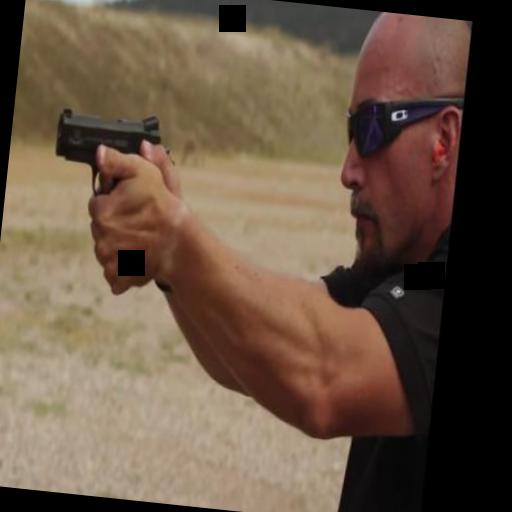Handgun: (38, 104, 179, 297)
